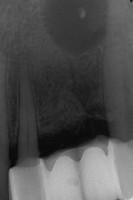Furcation Involvement: (39, 0, 107, 57)
